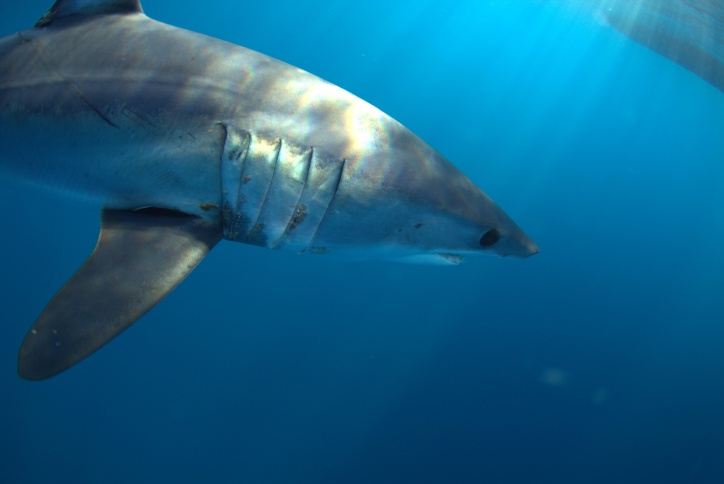Mako: (1, 1, 575, 377)
